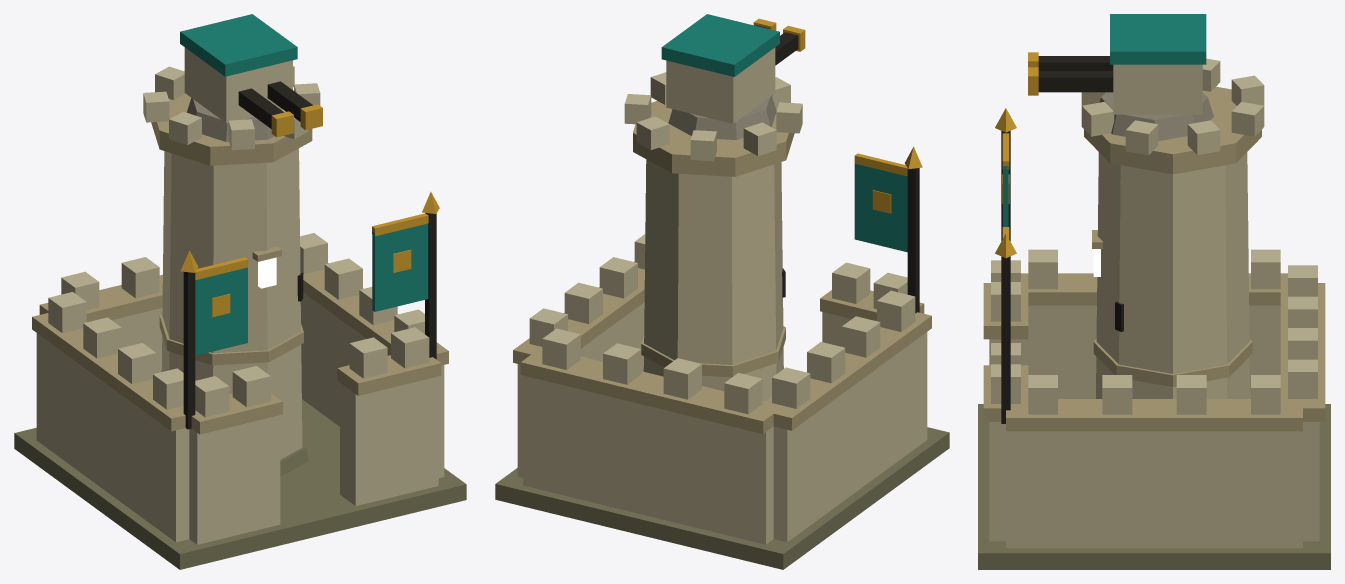
File: outpost_t3.glb
The picture shows the model from 3 angles, left to right: view 1: azimuth 30°, elevation 25°; view 2: azimuth 150°, elevation 25°; view 3: azimuth 270°, elevation 25°; orthographic projection. The views are drawn at different scales.
Visible parts, largest first — view 1: body, part_turret; view 2: body, part_turret; view 3: body, part_turret.
Boxes of the visible parts, bbox=[...] form: body: bbox=[14, 66, 466, 569]; part_turret: bbox=[180, 14, 322, 141]; body: bbox=[495, 72, 949, 569]; part_turret: bbox=[661, 14, 805, 139]; body: bbox=[978, 58, 1330, 569]; part_turret: bbox=[1028, 14, 1213, 140].
Size of the model in its own units: 1.9 by 2.75 by 1.9.
